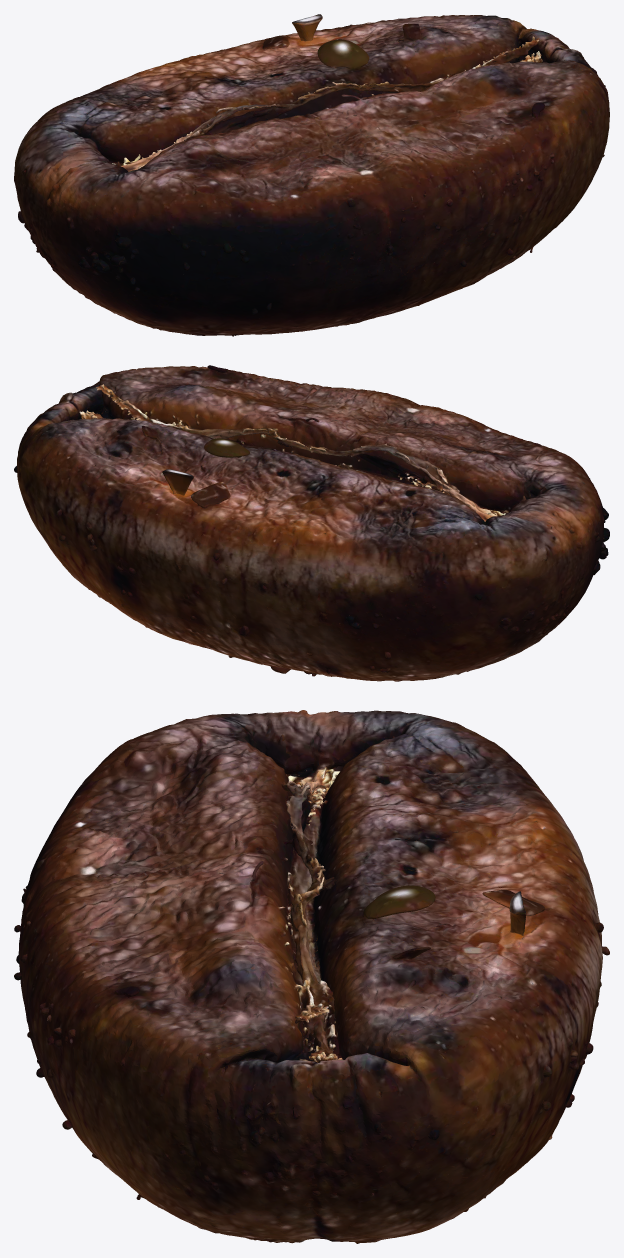
Rendered from cekirdek.glb.
3 views of the same model, one above another, from view 1: azimuth 30°, elevation 25°; view 2: azimuth 150°, elevation 25°; view 3: azimuth 270°, elevation 25° (orthographic). The views are drawn at different scales.
Visible parts, largest first — view 1: geometry_0; view 2: geometry_0; view 3: geometry_0.
Part boxes in pixels (x1,y1,x2,y2): geometry_0: (14,14,609,336); geometry_0: (14,365,609,681); geometry_0: (14,710,609,1243).
Size of the model in its own units: 1 by 0.3874 by 0.6545.
1 material, 1 textured.
